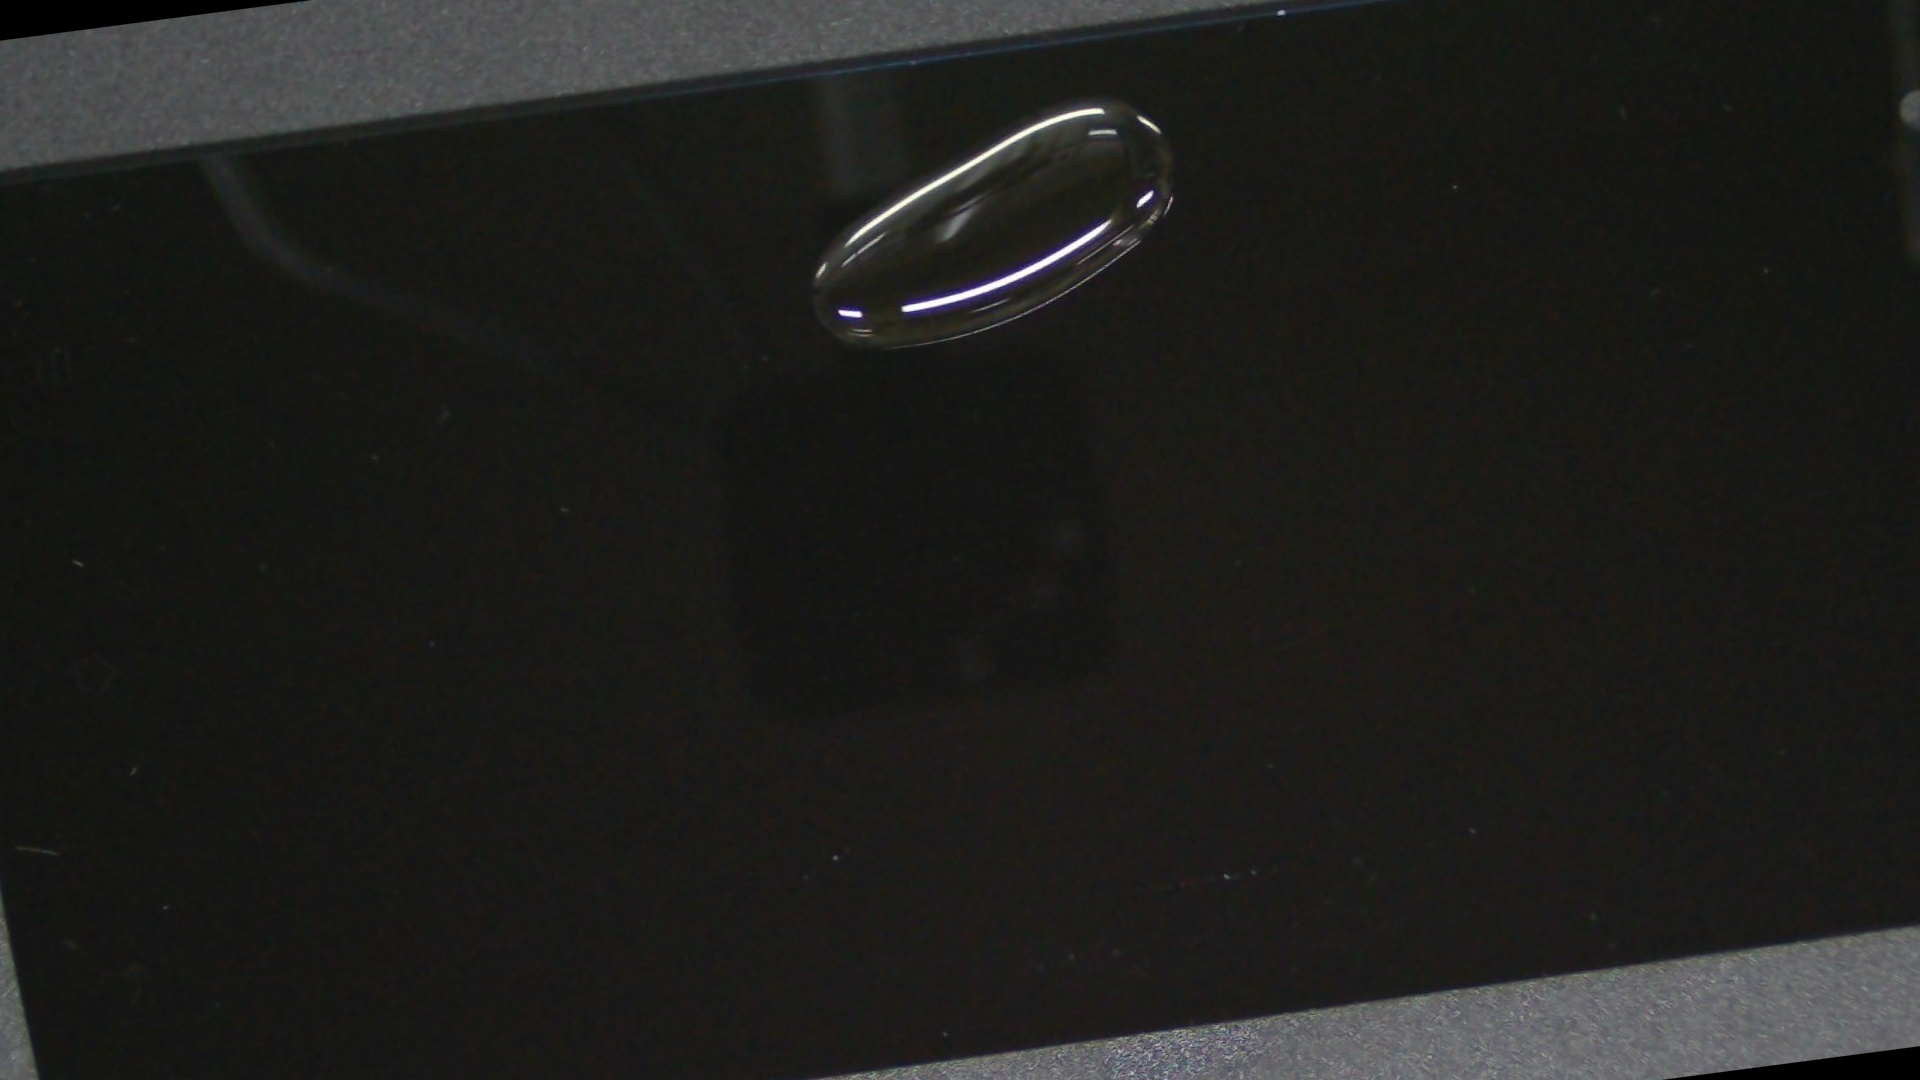oil: (431, 0, 1747, 282)
